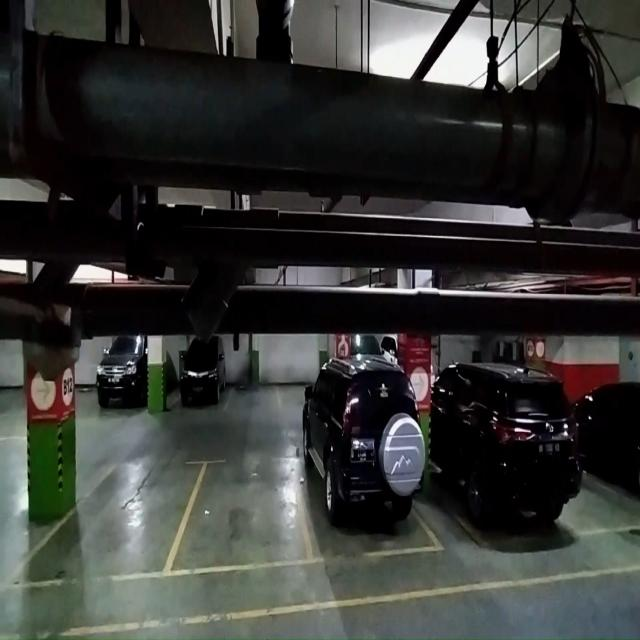empty: (77, 459, 199, 577), (193, 458, 302, 570)
occupied: (301, 412, 424, 562)
